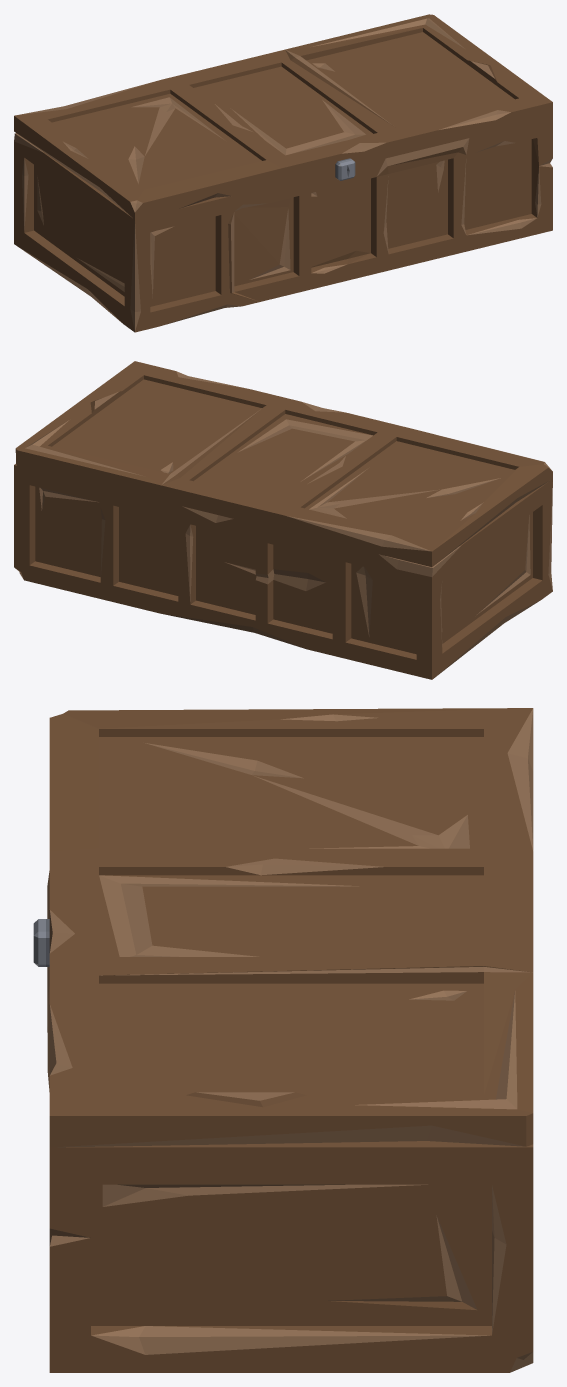
Rendered from mesh_chest.fbx.
3 renders of one model, top to bottom at view 1: azimuth 30°, elevation 25°; view 2: azimuth 150°, elevation 25°; view 3: azimuth 270°, elevation 25°, orthographic. The views are drawn at different scales.
Visible parts, largest first — view 1: mesh_chest; view 2: mesh_chest; view 3: mesh_chest.
Part boxes in pixels (box(x1,y1,x2,y2)): mesh_chest: box(14, 14, 552, 332); mesh_chest: box(14, 361, 552, 679); mesh_chest: box(33, 708, 533, 1372).
Bounding box in the file's own units: 2 × 0.5991 × 1.03.
